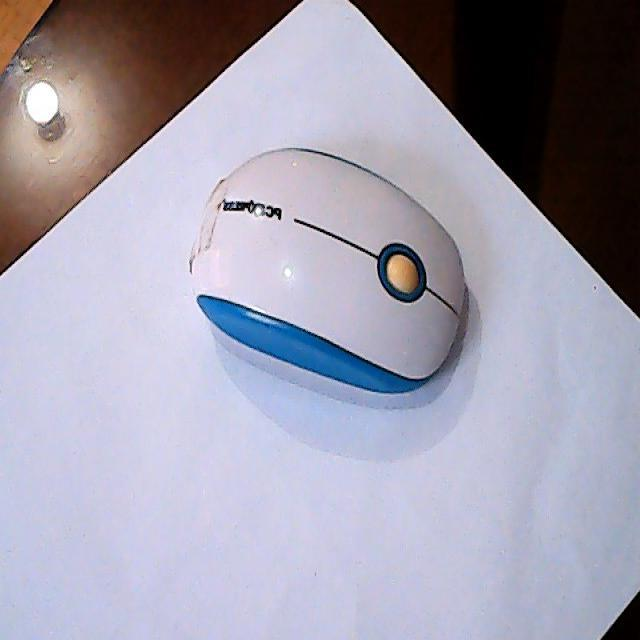mouse: (185, 169, 471, 388)
